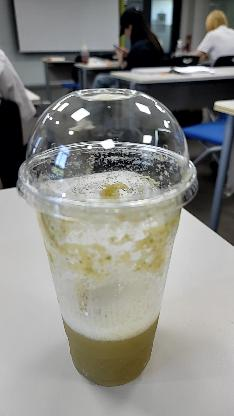Plastic Cup: (12, 82, 200, 395)
